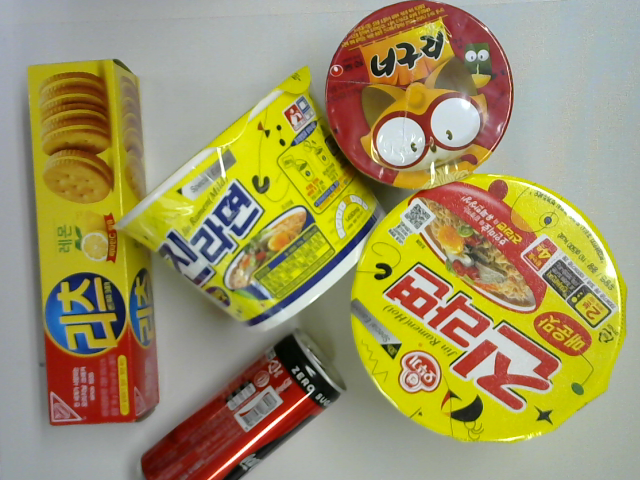Coca_Cola_Zero_Can_250ml: (140, 329, 349, 480)
Jinlamyeon_Hot_Taste_Large_Cup: (349, 174, 625, 441)
Jinlamyeon_Mild_Taste_Large_Cup: (109, 68, 386, 330)
Raccoon: (325, 1, 516, 192)
Ritz_Remon_96g: (23, 59, 162, 426)
